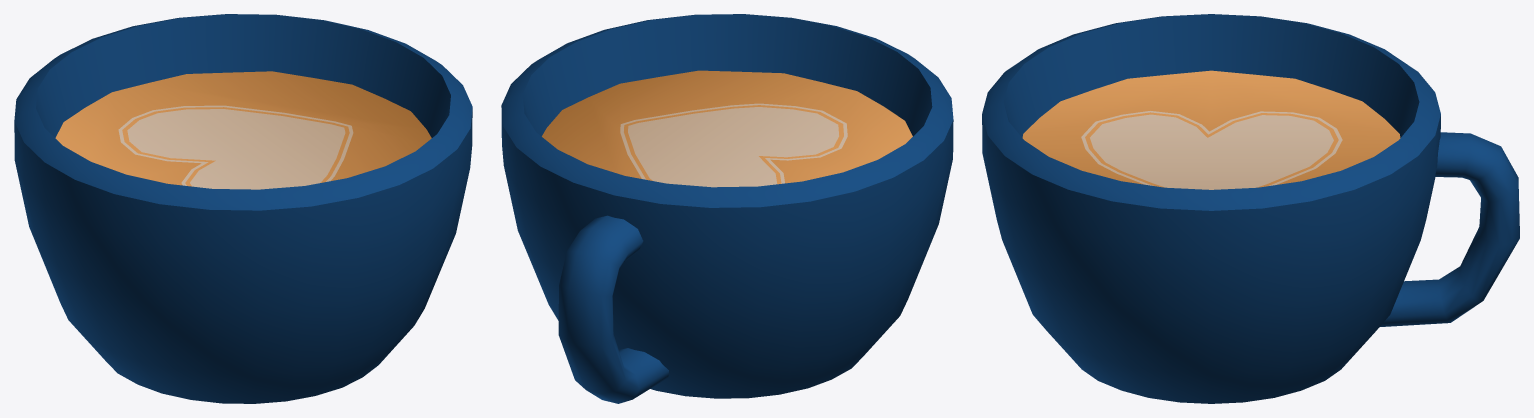
Rendered from Cofe Cup Heart_2.fbx.
3 views of the same model, side by side, from view 1: azimuth 30°, elevation 25°; view 2: azimuth 150°, elevation 25°; view 3: azimuth 270°, elevation 25° (orthographic).
Visible parts, largest first — view 1: Cofe Cup Heart_2; view 2: Cofe Cup Heart_2; view 3: Cofe Cup Heart_2.
Boxes of the visible parts, <box> form: Cofe Cup Heart_2: <box>14,14,472,403</box>; Cofe Cup Heart_2: <box>501,14,953,403</box>; Cofe Cup Heart_2: <box>982,14,1519,403</box>.
Size of the model in its own units: 0.1 by 0.0579 by 0.1172.
